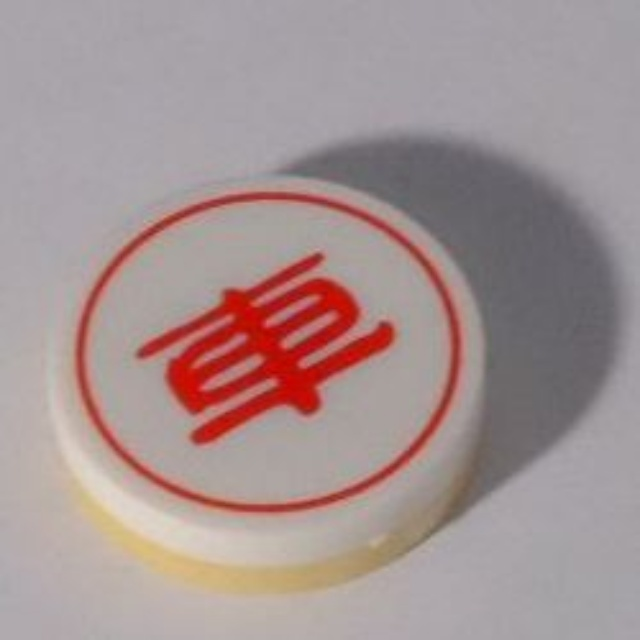red_xe: (32, 163, 509, 598)
